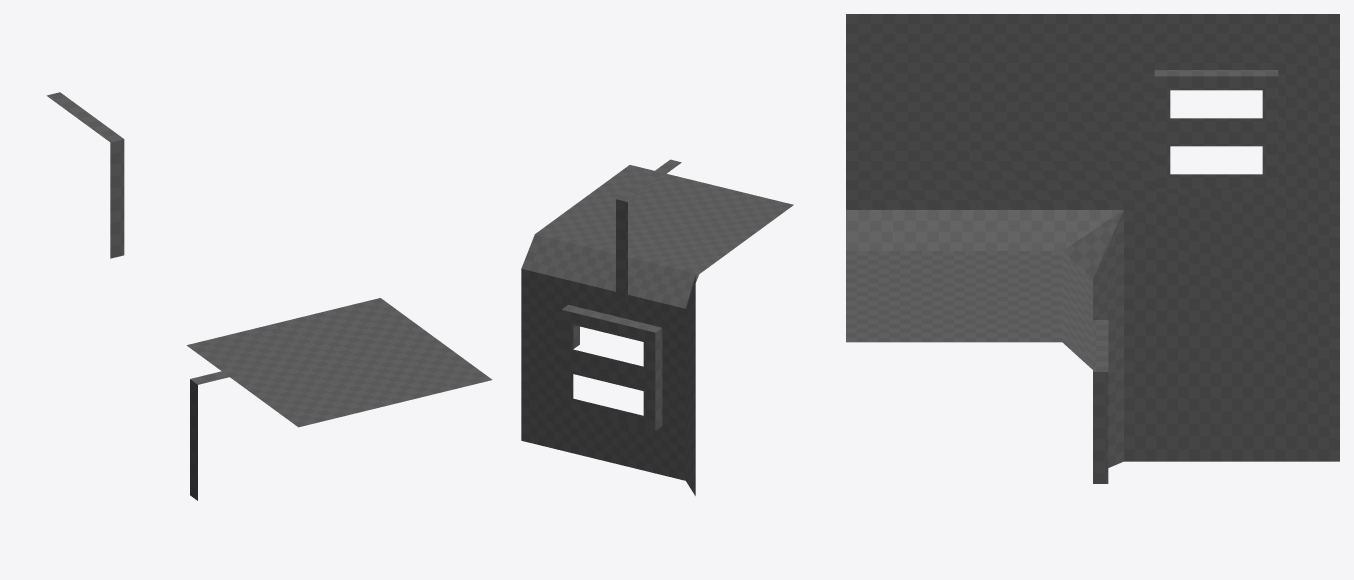
The picture shows the model from 3 angles, left to right: view 1: azimuth 30°, elevation 25°; view 2: azimuth 150°, elevation 25°; view 3: azimuth 270°, elevation 25°; orthographic projection. The views are drawn at different scales.
Visible parts, largest first — view 1: CubeUpBackRight5V2; view 2: CubeUpBackRight5V2; view 3: CubeUpBackRight5V2.
Part boxes in pixels (left/top/right/bottom): CubeUpBackRight5V2: left=46, top=92, right=492, bottom=500; CubeUpBackRight5V2: left=521, top=159, right=793, bottom=495; CubeUpBackRight5V2: left=846, top=14, right=1339, bottom=483.
Bounding box in the file's own units: 2 × 4 × 4.
1 material, 1 textured.
